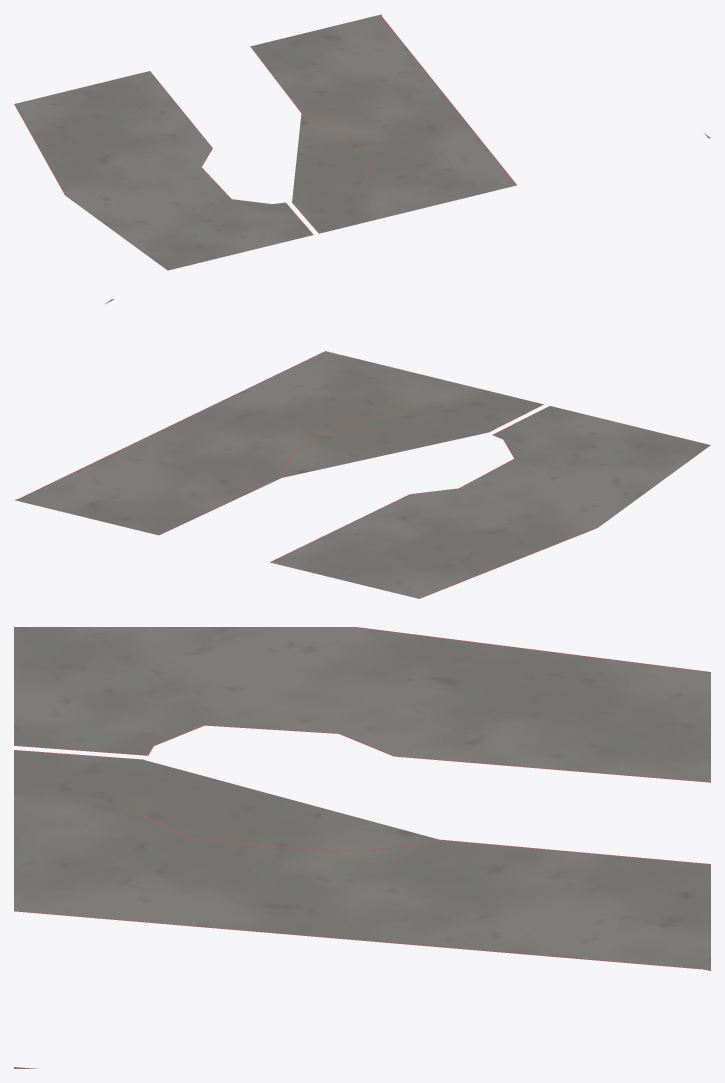
The model's file is sbgr_patio.glb.
3 views of the same model, one above another, from view 1: azimuth 30°, elevation 25°; view 2: azimuth 150°, elevation 25°; view 3: azimuth 270°, elevation 25° (orthographic). The views are drawn at different scales.
Parts seen in each view (by area): view 1: sbgr_patio; view 2: sbgr_patio; view 3: sbgr_patio.
Boxes of the visible parts, bbox=[...] form: sbgr_patio: bbox=[14, 14, 710, 270]; sbgr_patio: bbox=[14, 299, 710, 598]; sbgr_patio: bbox=[14, 627, 710, 1068].
Size of the model in its own units: 300 by 0.02 by 200.
Materials: 2 (1 with a texture image).
